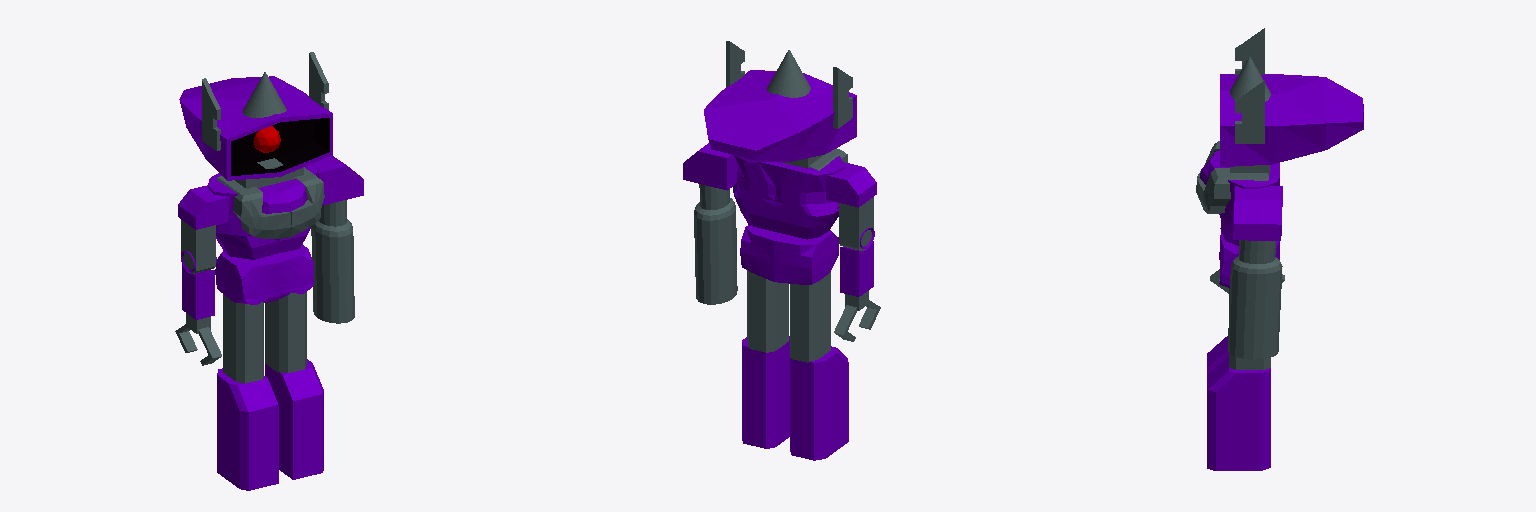
File: robot1.obj
3 views of the same model, side by side, from view 1: azimuth 30°, elevation 25°; view 2: azimuth 150°, elevation 25°; view 3: azimuth 270°, elevation 25° (orthographic).
Parts seen in each view (by area): view 1: Head, LowerLegR, LowerLegL, Cannon, Pelvis, Chest, ChestPlate, LegR, LegL, Anteana, ArmR, CannonArm (+5 smaller); view 2: Head, Chest, LowerLegR, LowerLegL, Cannon, Pelvis, LegR, LegL, CannonArm, Anteana, ArmR, Forearm (+2 smaller); view 3: Head, LowerLegL, Cannon, CannonArm, Anteana, ChestPlate, Chest, Tip, Pelvis.
Boxes of the visible parts, x1,y1,x2,y2 form: Head: [179, 76, 332, 180]; LowerLegR: [217, 368, 278, 490]; LowerLegL: [265, 359, 323, 479]; Cannon: [311, 200, 354, 323]; Pelvis: [215, 244, 313, 304]; Chest: [208, 163, 320, 259]; ChestPlate: [217, 167, 324, 238]; LegR: [223, 294, 263, 383]; LegL: [265, 292, 306, 372]; Anteana: [202, 52, 328, 150]; ArmR: [178, 185, 228, 229]; CannonArm: [315, 155, 363, 205]; Head: [704, 70, 856, 162]; Chest: [733, 155, 844, 239]; LowerLegR: [790, 346, 848, 460]; LowerLegL: [742, 336, 789, 448]; Cannon: [694, 184, 737, 304]; Pelvis: [740, 225, 838, 284]; LegR: [790, 272, 830, 362]; LegL: [747, 270, 788, 352]; CannonArm: [683, 143, 736, 190]; Anteana: [726, 41, 852, 128]; ArmR: [826, 162, 876, 207]; Forearm: [840, 241, 873, 296]; Head: [1220, 74, 1363, 166]; LowerLegL: [1207, 357, 1270, 470]; Cannon: [1228, 240, 1282, 359]; CannonArm: [1233, 186, 1282, 240]; Anteana: [1235, 28, 1264, 143]; ChestPlate: [1196, 141, 1268, 213]; Chest: [1200, 151, 1279, 245]; Tip: [1230, 56, 1270, 101]; Pelvis: [1219, 232, 1279, 287].
Size of the model in its own units: 8.58 by 19.19 by 7.37.